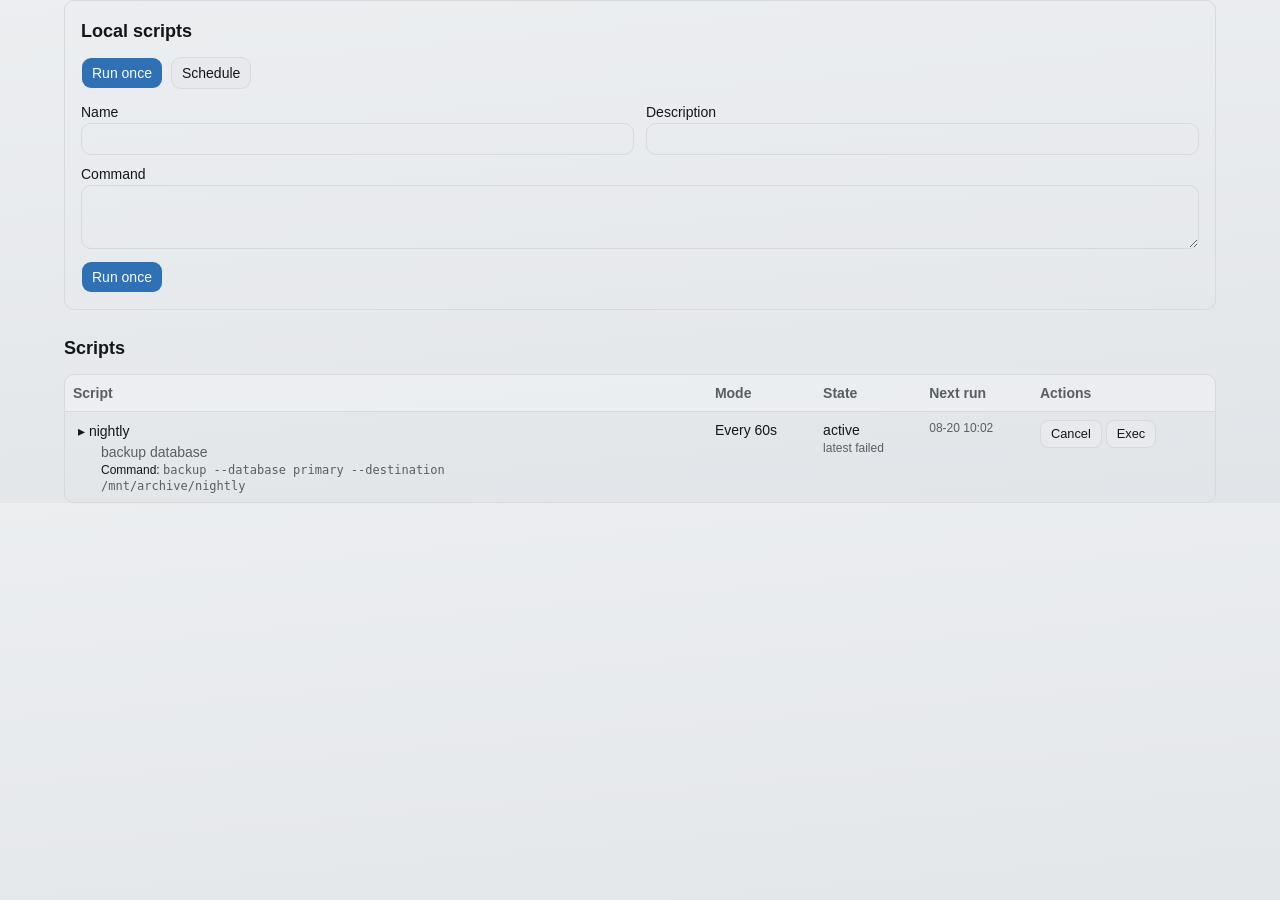
keeps the trailing terminal refresh when an older poll finishes later
What coordinates should you click on to do the following:
click the button "▸ nightly"
I would click on:
 (104, 431)
Its box is [73,420,134,442].
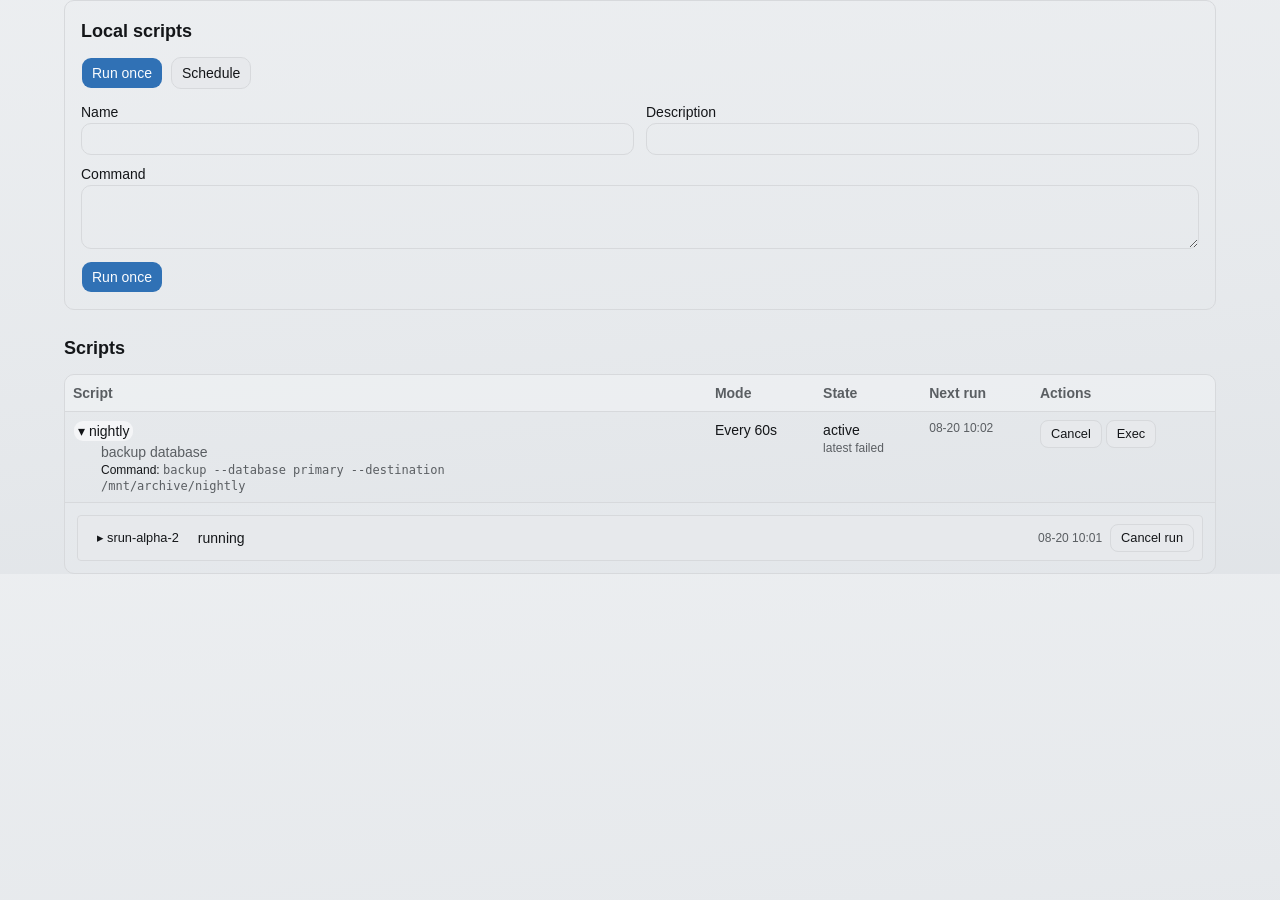
What coordinates should you click on to do the following:
click the button "▸ srun-alpha-2"
I would click on:
 (138, 538)
Its box is [86,524,190,552].
Wait 3000 ms
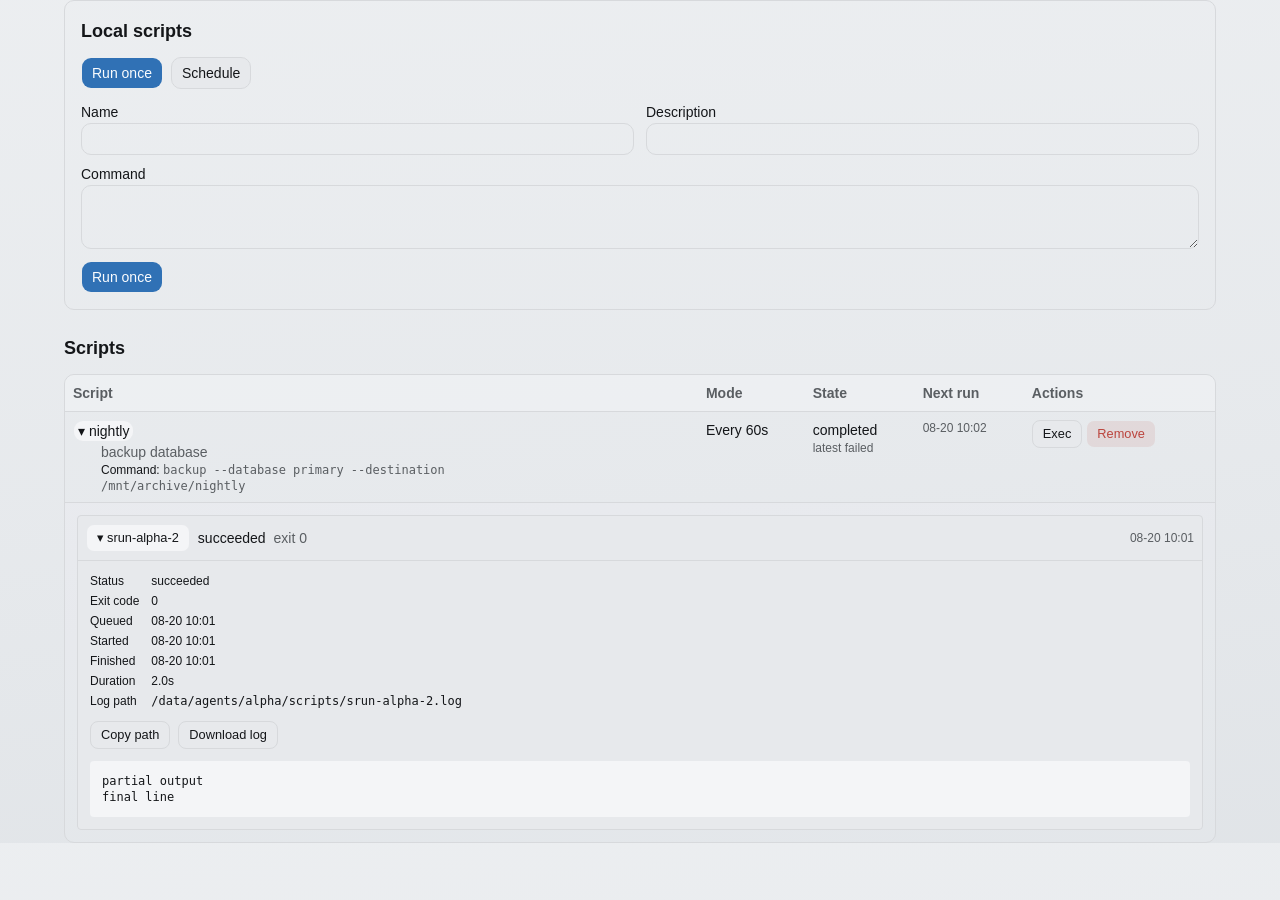
Expected: the text "partial output final line" is shown, [90,761,1190,817]
